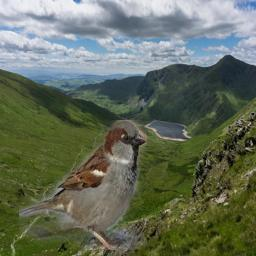Sparrow: (19, 120, 147, 250)
